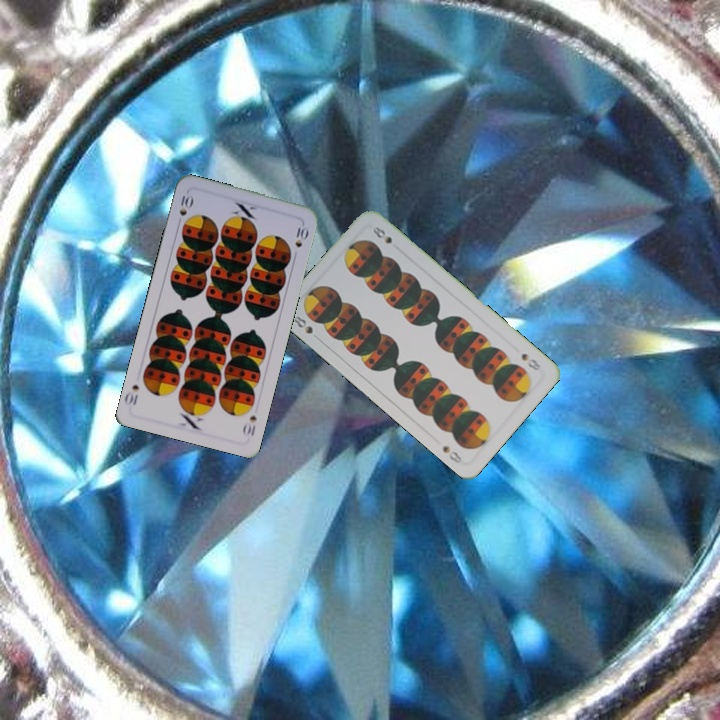S10: (173, 191, 195, 228), (239, 411, 259, 438)
S8: (517, 349, 544, 373), (290, 312, 315, 336)
